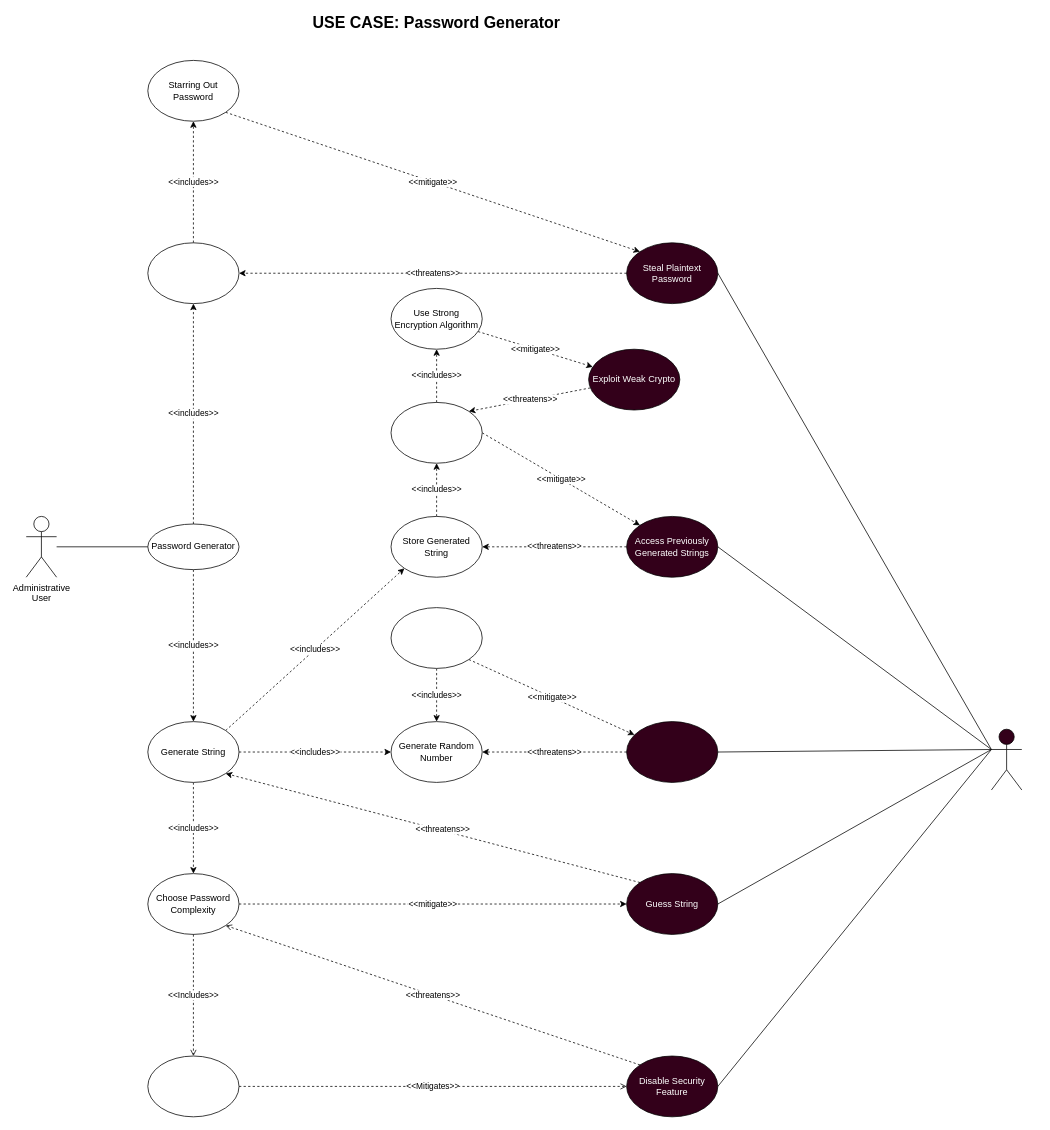
Image size: 1050x1130. Some labels were removed from this diagram. Each missing label, with the box of its shape:
Attack Weak Number Generator: (626, 721, 718, 782)
Display Password: (147, 242, 239, 304)
Encrypt Stored Strings: (390, 402, 482, 463)
Enforce Code Signing: (147, 1055, 239, 1117)
Incorporate Strong Number Generator: (390, 607, 482, 668)
Rival Company: (991, 728, 1022, 790)
